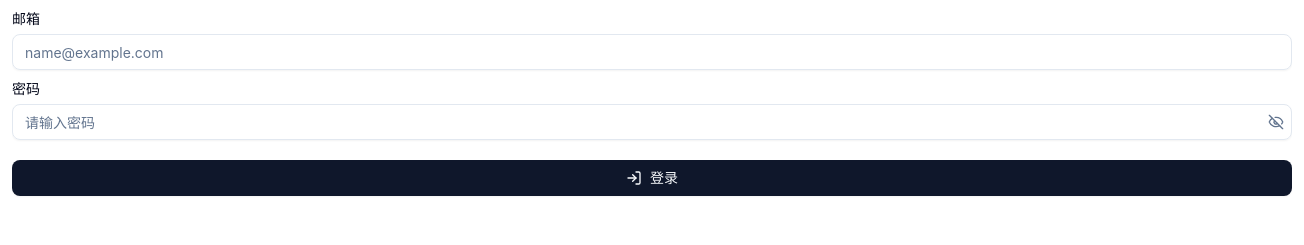
Test case: API login form › shows API rejection and never navigates
Step 1. Type "admin@example.com" into the field labelled "邮箱" → coordinates (652, 52), box [12,34,1292,70]
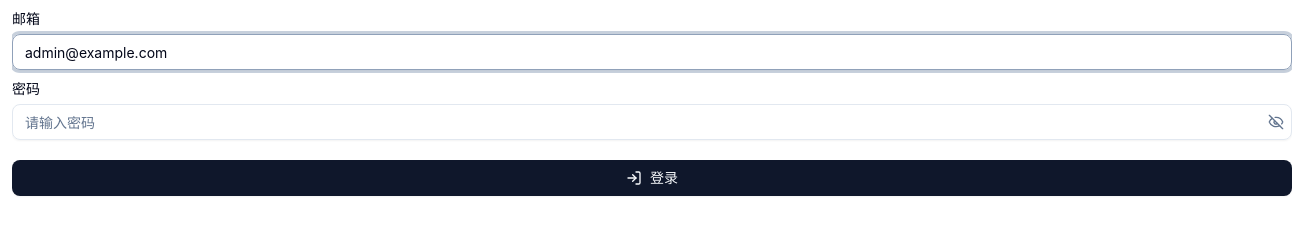
Step 2. Type "Demo1234!" into the password field labelled "密码" → coordinates (652, 122), box [12,104,1292,140]
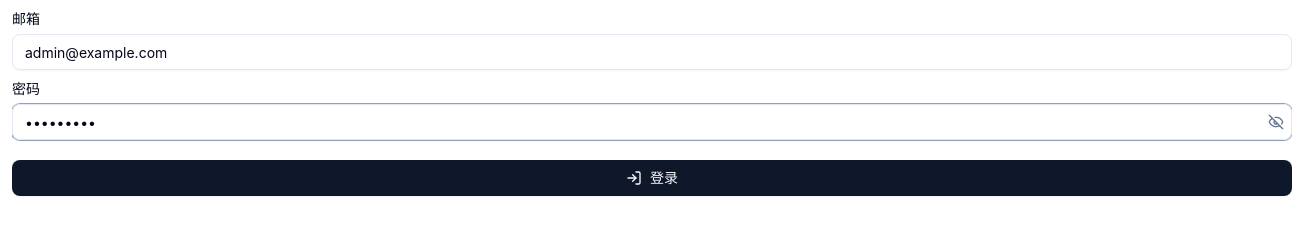
Step 3. Click the button "登录" → coordinates (652, 178), box [12,160,1292,196]
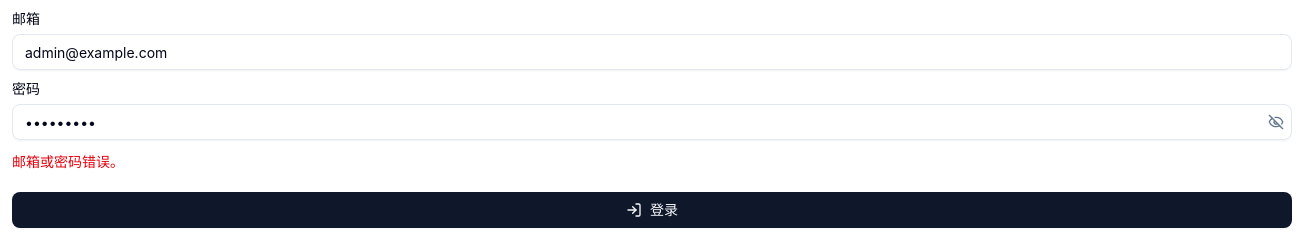
Expected: the button "登录" is enabled, [12,192,1292,228]
Expected: the message reads "邮箱或密码错误。", [12,153,124,170]
